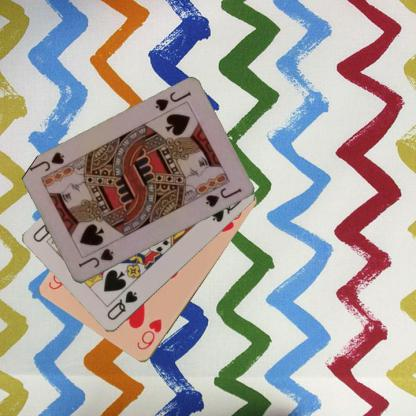6h: (134, 316, 164, 352)
Js: (75, 246, 115, 270), (152, 89, 192, 113)
Qs: (104, 288, 139, 322)
